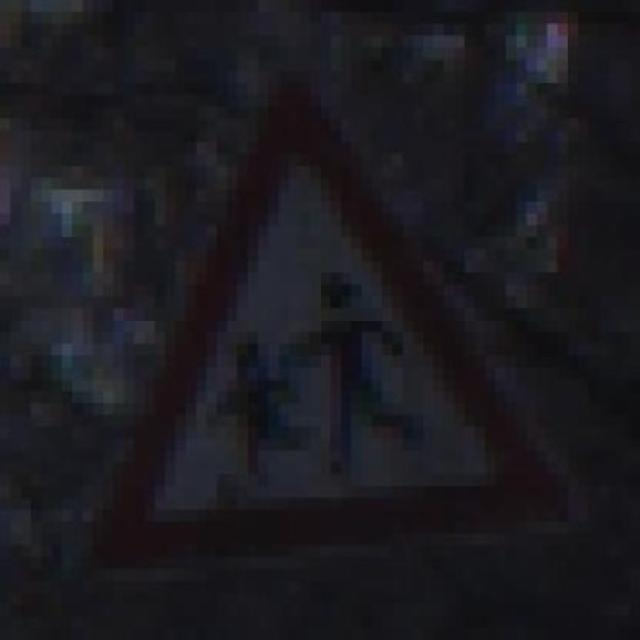Beware of children: (58, 59, 584, 581)
